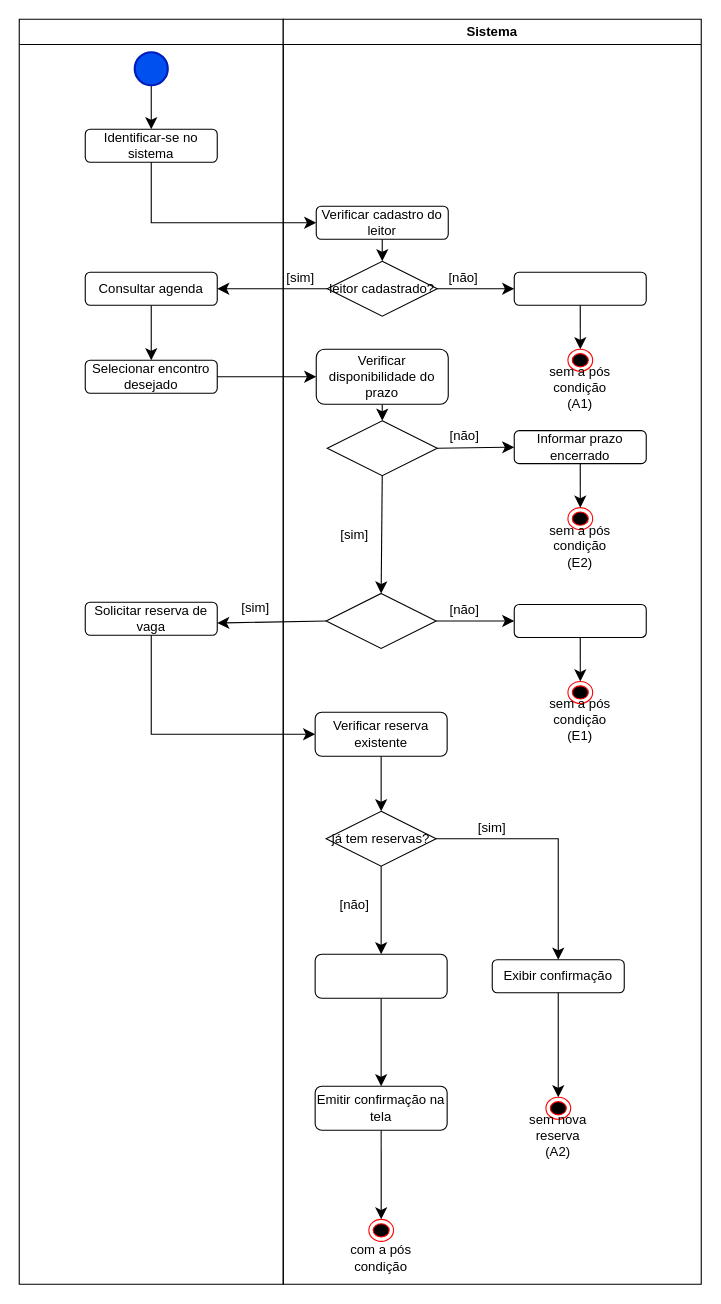
Image size: 721x1304. Some labels were removed from this diagram. The shapes that lost their labels are listed below. From the top down, each one's box as (x1, y1, x2, y2) in pixels, then its label:
(513, 271, 646, 305): Avisar que não possui cadastro
(326, 420, 437, 476): prazo aberto?
(325, 592, 436, 648): há vagas disponíveis?
(513, 603, 646, 637): Informar esgotamento
(18, 18, 283, 1284): Leitor
(314, 953, 447, 998): Registrar inscrição e atualizar vagas
